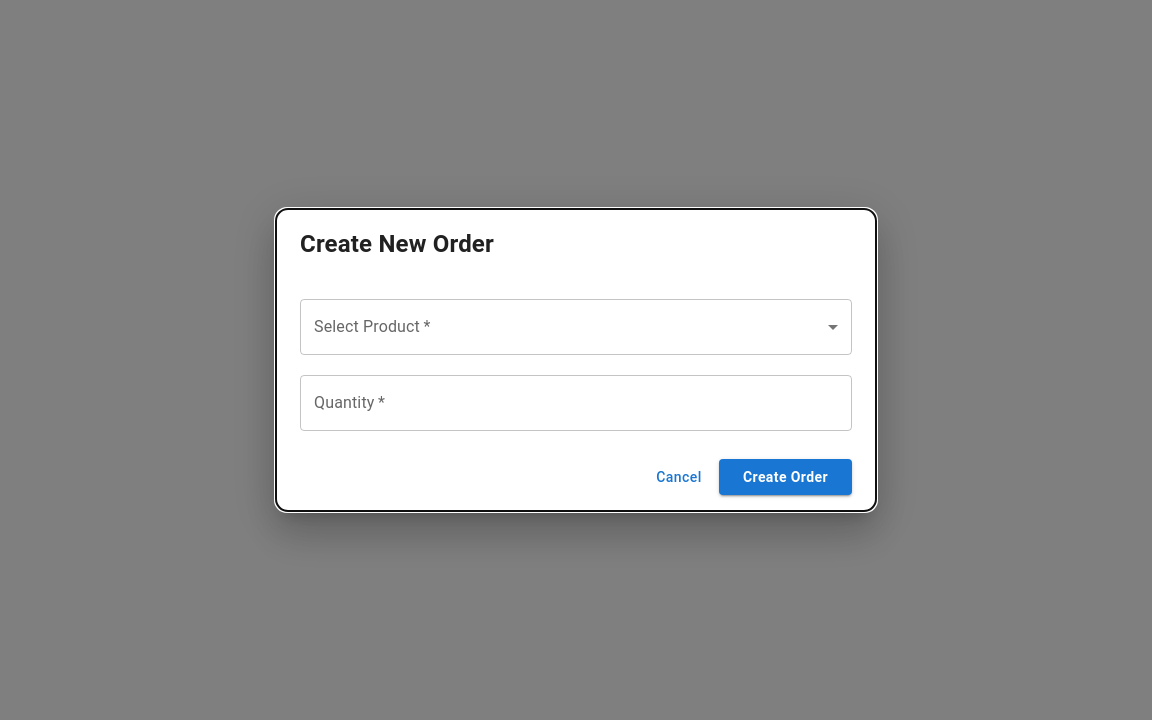
Scenario: OrderFormDialog Component › validates quantity does not exceed stock
Click the dropdown named "select product": (576, 327) left=300, top=299, right=852, bottom=355
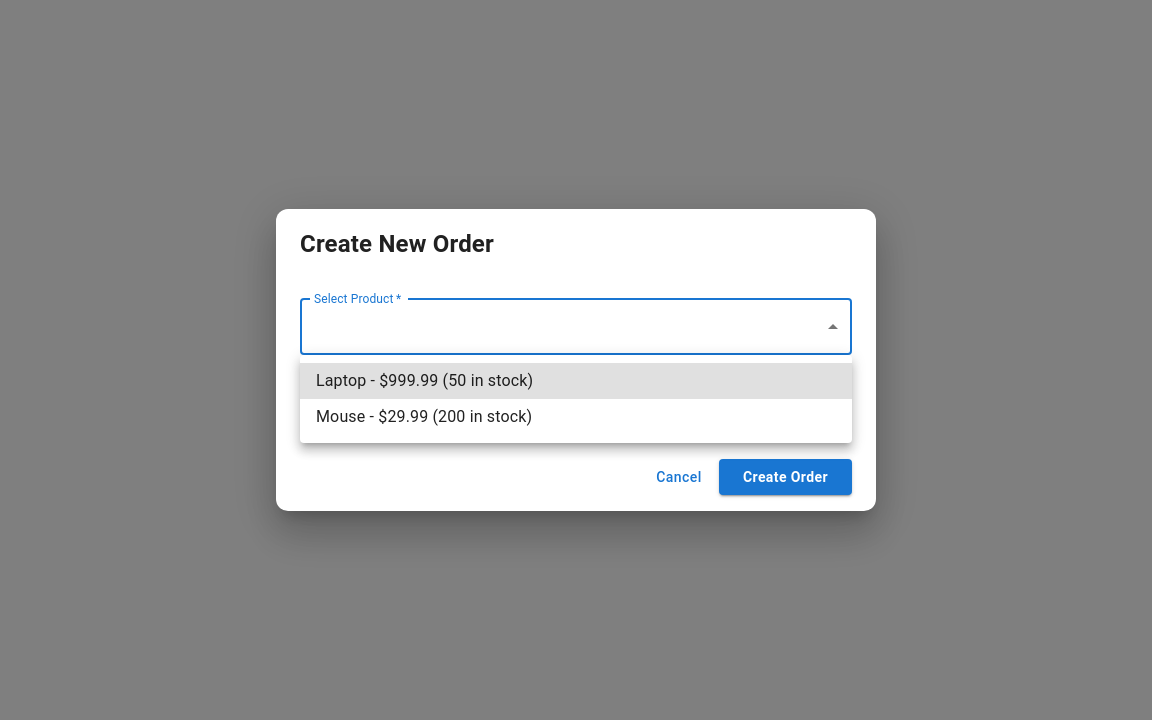
Click the option "Laptop - $999.99 (50 in stock)": (341, 380) left=300, top=363, right=852, bottom=399
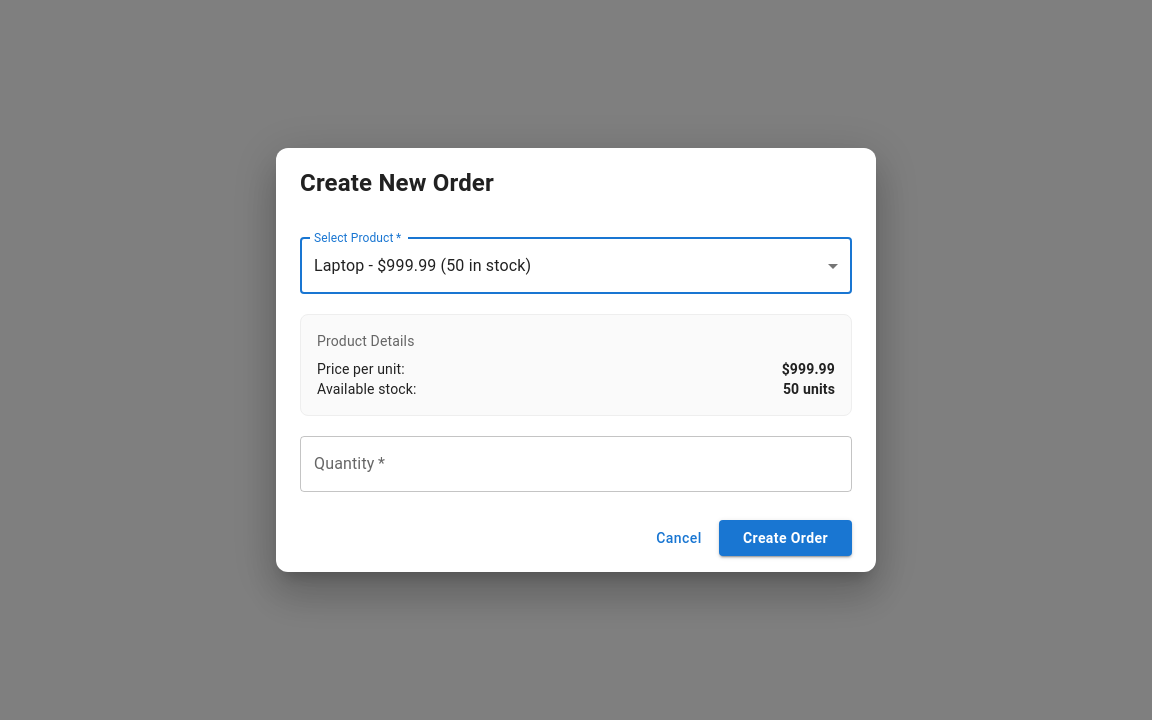
In the number field labelled "Quantity *": (576, 464) left=300, top=436, right=852, bottom=492, type "100"
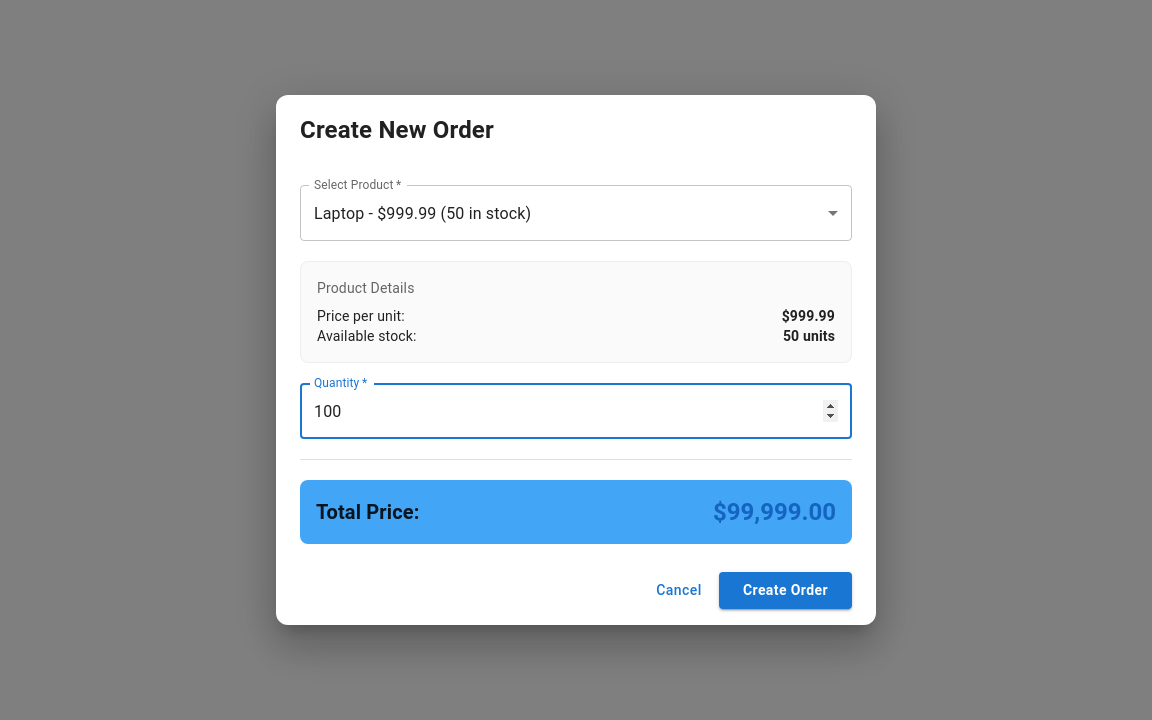
Click the button "Create Order": (786, 591) left=719, top=572, right=852, bottom=609
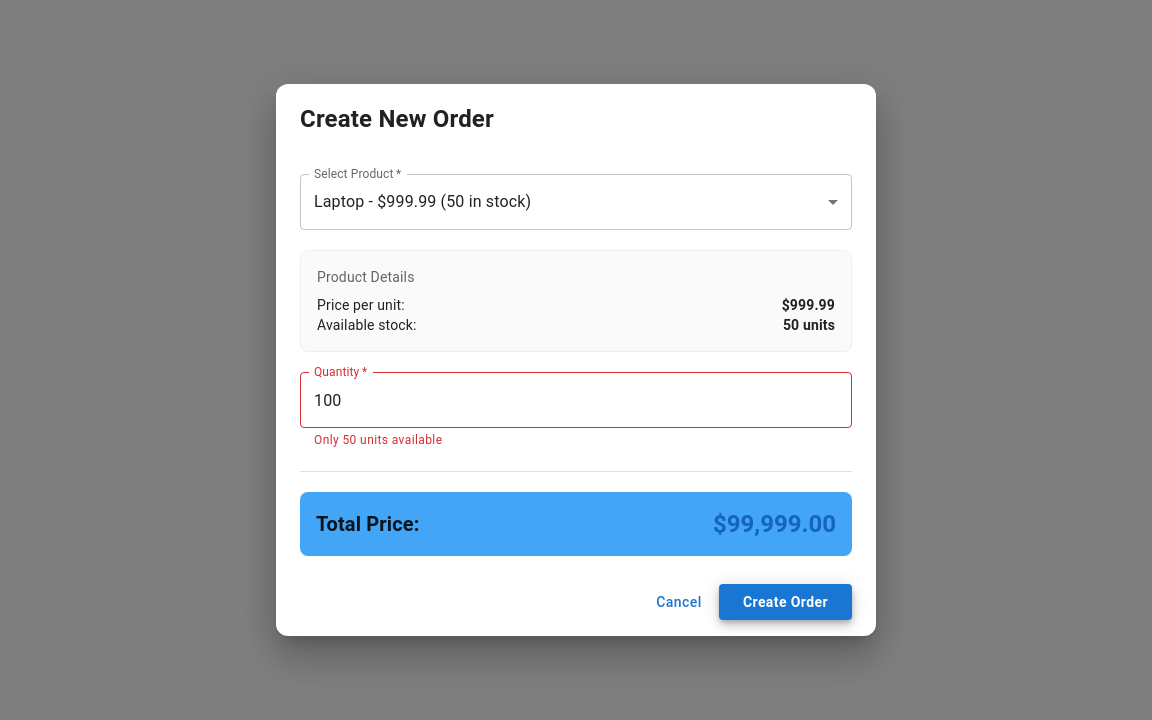
Now the text "Only 50 units available" is shown, box left=314, top=433, right=442, bottom=447
